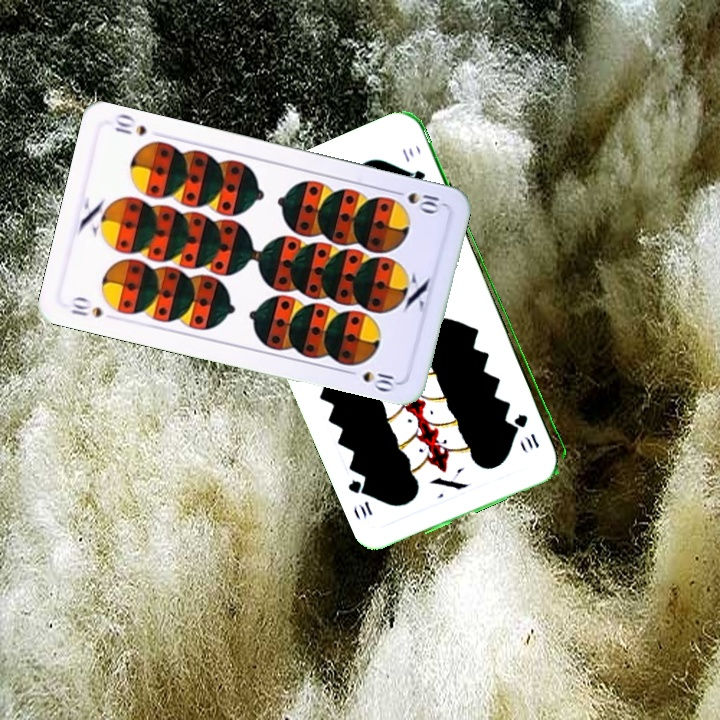G10: (513, 409, 542, 451)
S10: (388, 186, 446, 216), (67, 293, 107, 320)
